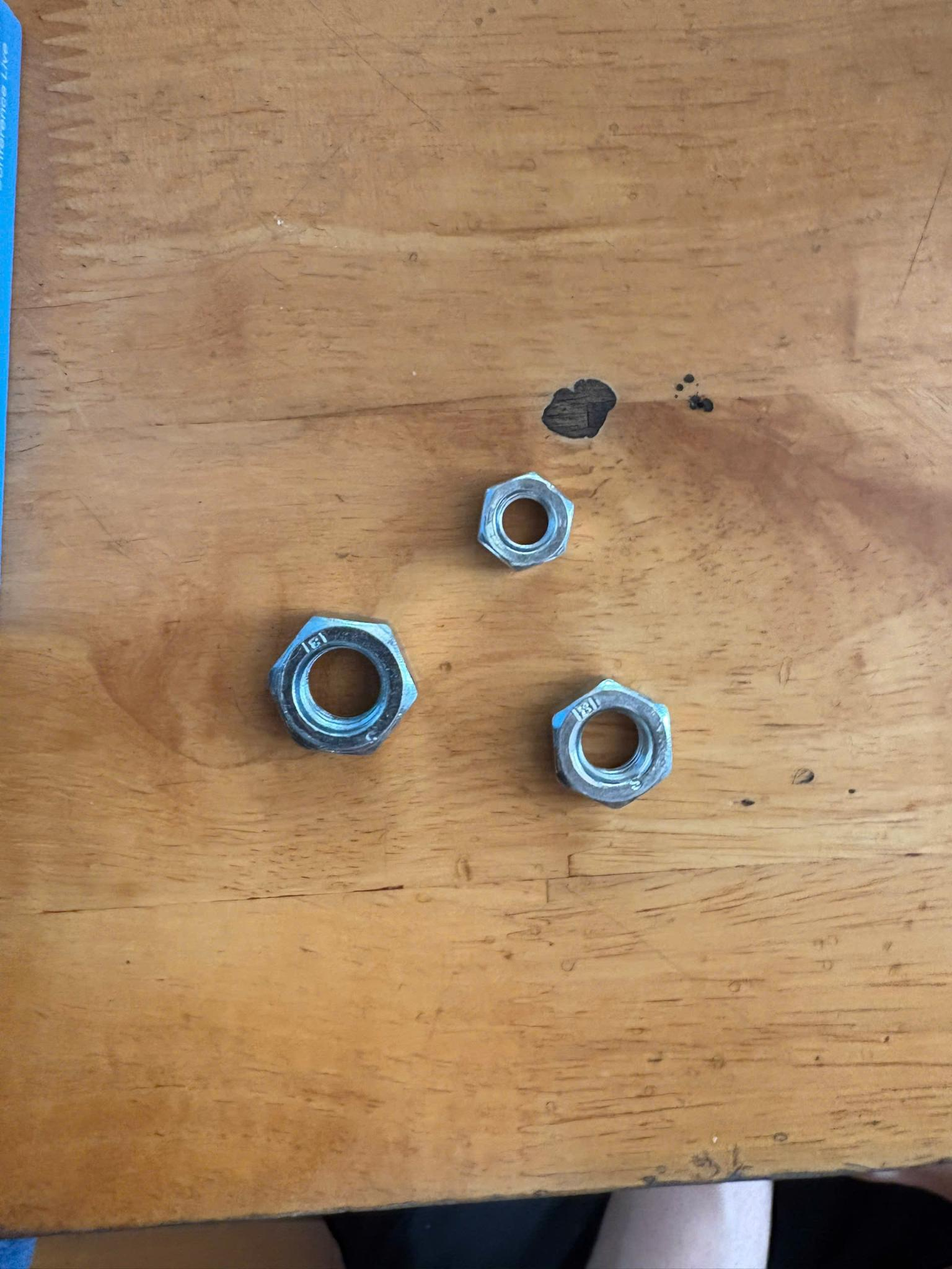nut: (260, 600, 420, 781), (466, 457, 585, 583)
